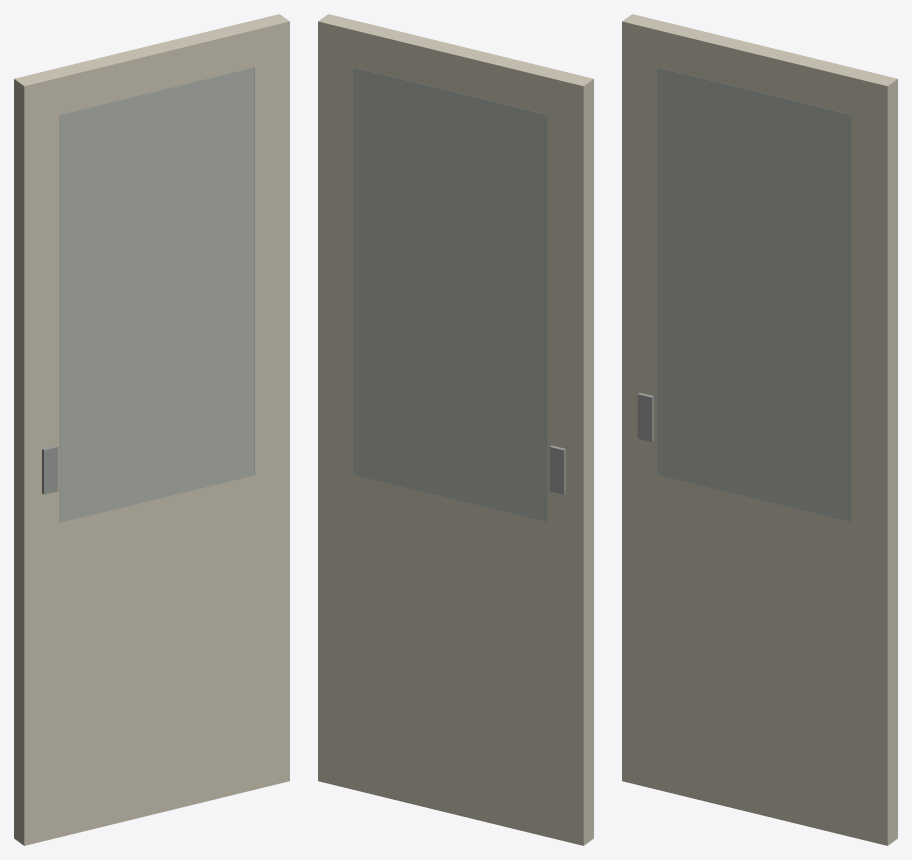
Rendered from door_balcony.glb.
3 views of the same model, side by side, from view 1: azimuth 30°, elevation 25°; view 2: azimuth 150°, elevation 25°; view 3: azimuth 330°, elevation 25° (orthographic).
Visible parts, largest first — view 1: anim_door_L; view 2: anim_door_L; view 3: anim_door_L.
Boxes of the visible parts, x1,y1,x2,y2 form: anim_door_L: (14, 14, 289, 845); anim_door_L: (318, 14, 593, 845); anim_door_L: (622, 14, 897, 845).
Bounding box in the file's own units: 0.75 × 2.05 × 0.07.
